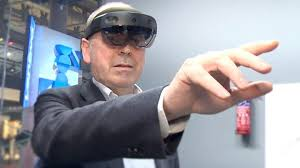hololens: (86, 10, 159, 51)
